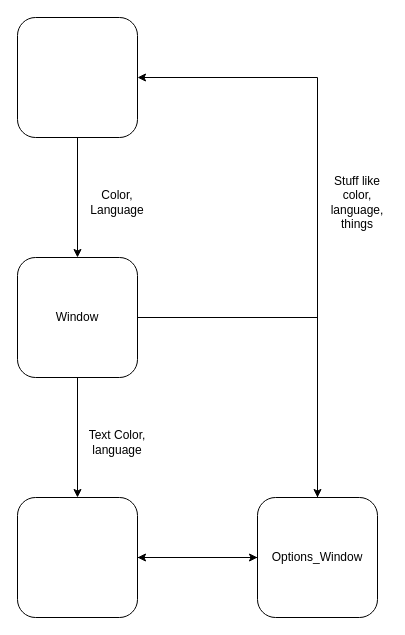
This 405x635 diagram has some shape labels left out. The shapes that lost their labels are listed below. From the top down, each one's box as (x1, y1, x2, y2) in pixels, then its label:
(16, 16, 138, 138): Main program
(16, 496, 138, 618): Main Page
